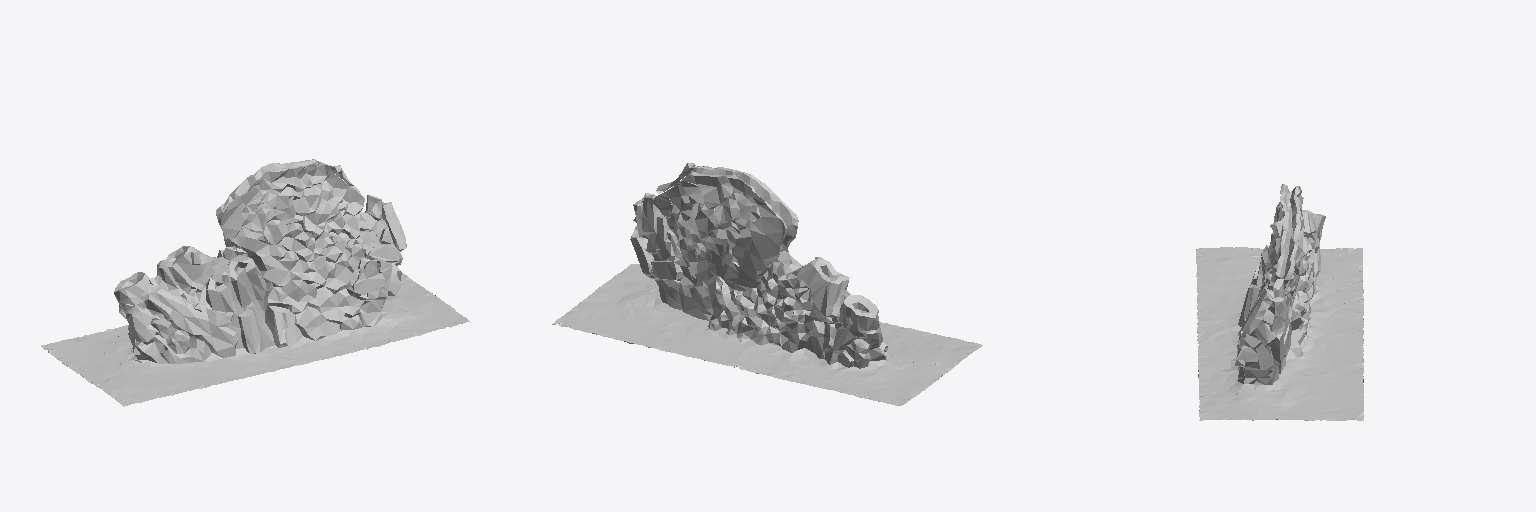
Rendered from coralFan.obj.
3 renders of one model, left to right at view 1: azimuth 30°, elevation 25°; view 2: azimuth 150°, elevation 25°; view 3: azimuth 270°, elevation 25°, orthographic.
Parts seen in each view (by area): view 1: coral_both_condensed; view 2: coral_both_condensed; view 3: coral_both_condensed.
Boxes of the visible parts, x1=… form: coral_both_condensed: x1=41, y1=159, x2=470, y2=406; coral_both_condensed: x1=552, y1=163, x2=982, y2=405; coral_both_condensed: x1=1196, y1=184, x2=1363, y2=420.
Bounding box in the file's own units: 239 × 106 × 99.71.